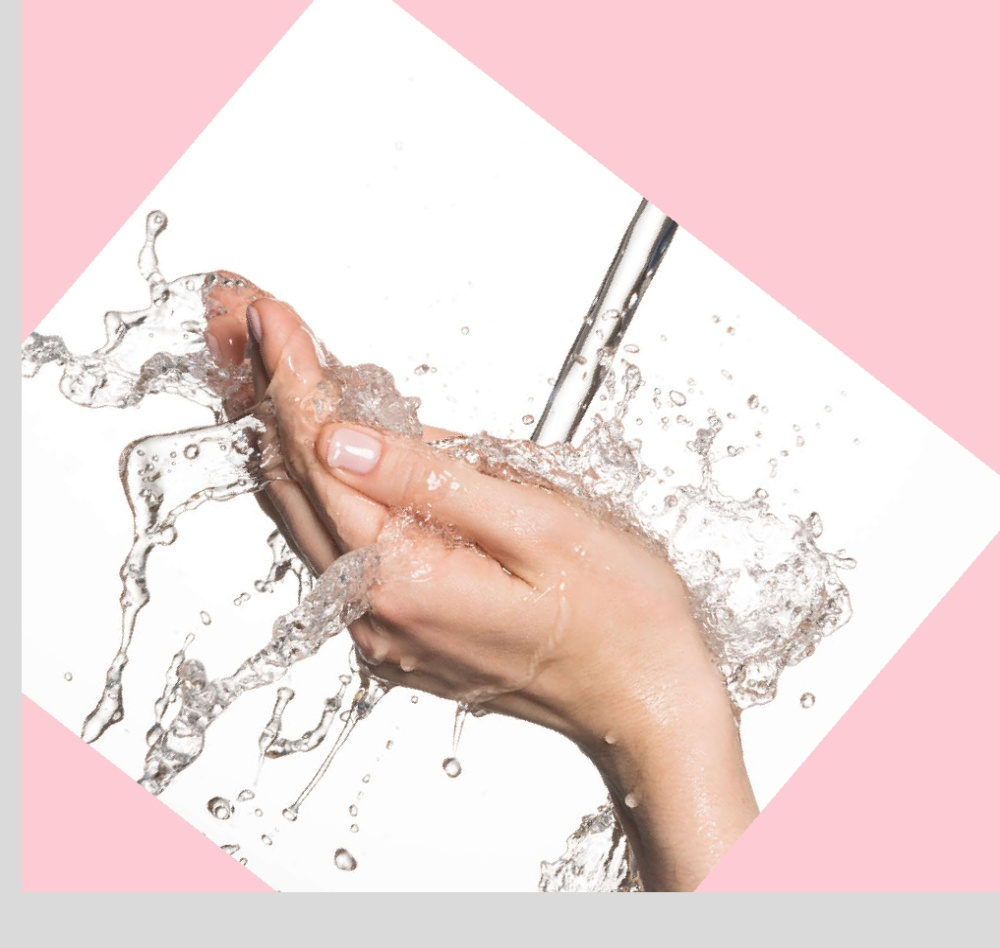washing hand: (0, 12, 984, 947)
